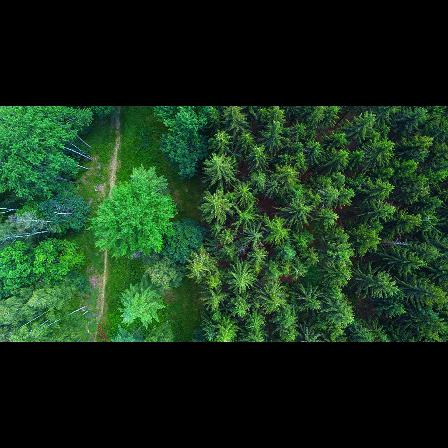Dead: (5, 228, 52, 245), (381, 234, 414, 249)
Sick: (237, 241, 250, 256)
